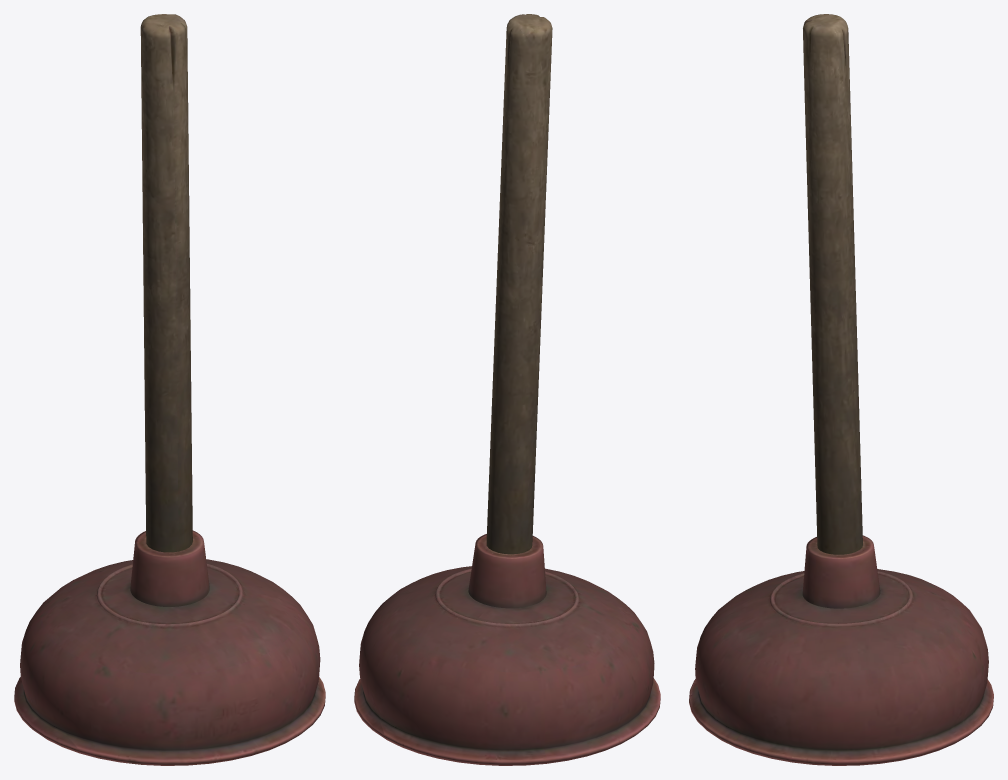
The model's file is plunger.glb.
3 renders of one model, left to right at view 1: azimuth 30°, elevation 25°; view 2: azimuth 150°, elevation 25°; view 3: azimuth 270°, elevation 25°, orthographic. The views are drawn at different scales.
Parts seen in each view (by area): view 1: plunger; view 2: plunger; view 3: plunger.
Boxes of the visible parts, x1,y1,x2,y2 form: plunger: [14, 14, 325, 765]; plunger: [354, 14, 660, 765]; plunger: [689, 14, 993, 765].
Bounding box in the file's own units: 0.1721 × 0.4211 × 0.1721.
Materials: 1 (1 with a texture image).
